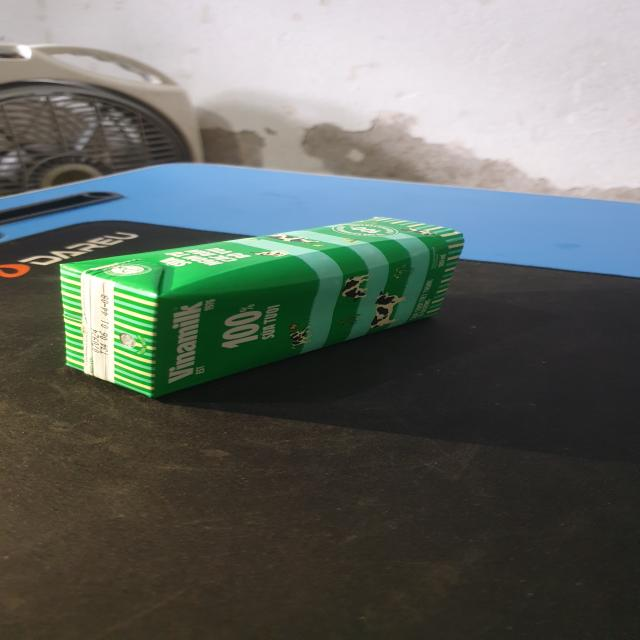Vina: (60, 215, 475, 402)
